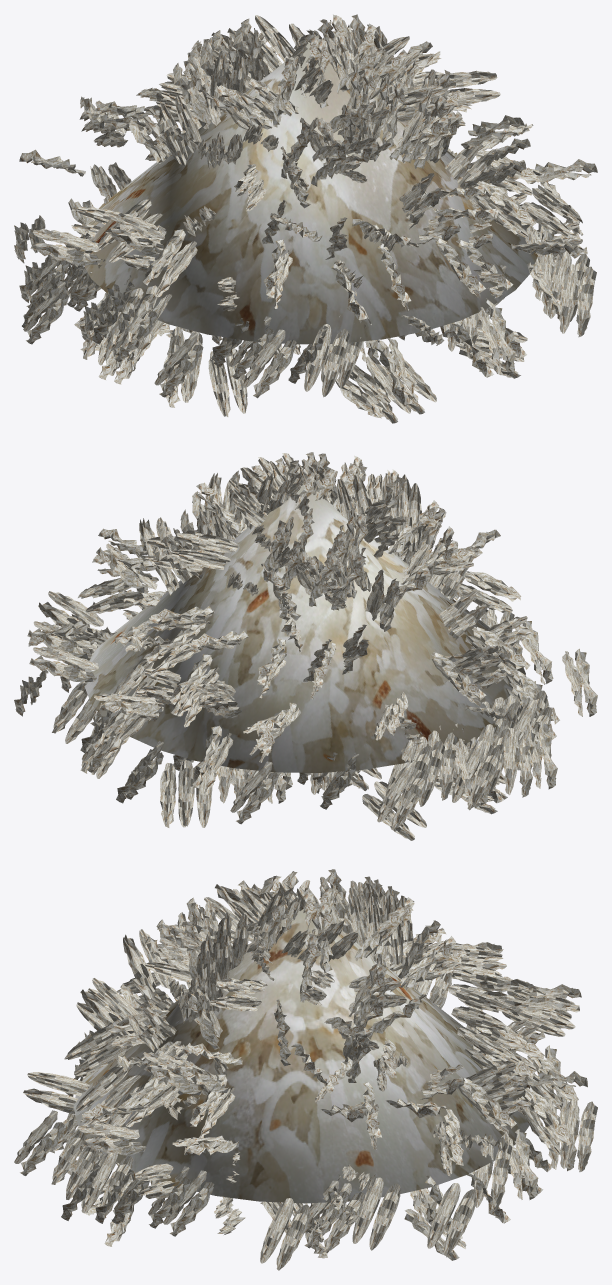
File: coconut_flakes.glb
3 views of the same model, one above another, from view 1: azimuth 30°, elevation 25°; view 2: azimuth 150°, elevation 25°; view 3: azimuth 270°, elevation 25° (orthographic). The views are drawn at different scales.
Visible parts, largest first — view 1: Cone; view 2: Cone; view 3: Cone.
Boxes of the visible parts, x1,y1,x2,y2 form: Cone: [14, 14, 597, 423]; Cone: [14, 452, 597, 840]; Cone: [14, 869, 597, 1270].
Bounding box in the file's own units: 2.66 × 1.46 × 2.53.
Materials: 2 (2 with a texture image).
